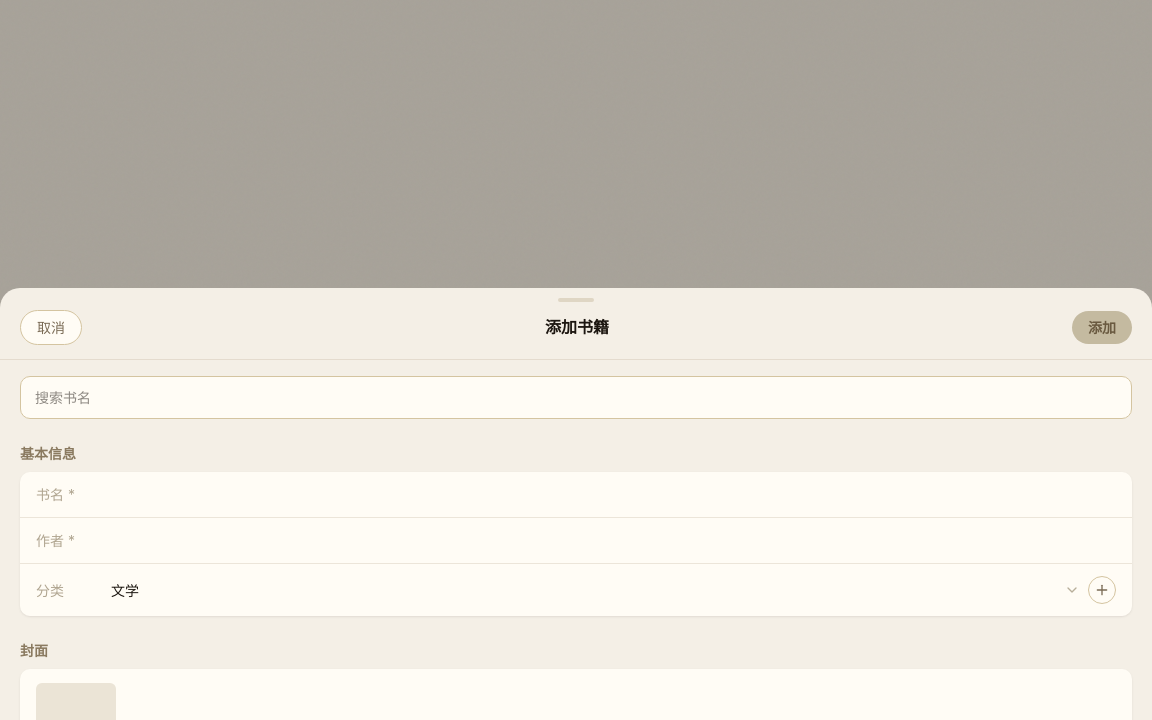
Scenario: 添加书籍弹窗里新建分类 › 默认不显示输入框，点加号才出现
Expected: the element with placeholder "新分类名称" is not shown
Click the button named "新建分类": [1102, 590] box [1088,576,1116,604]
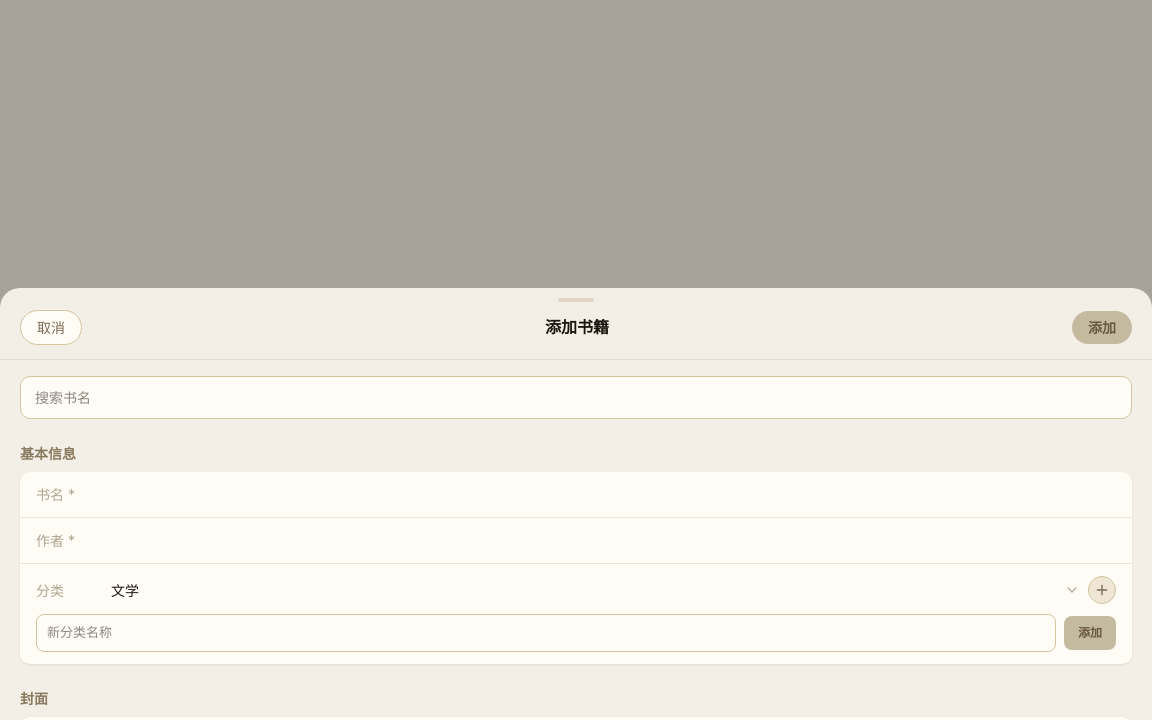
Now the field with placeholder "新分类名称" is shown, box [36,614,1056,652]
